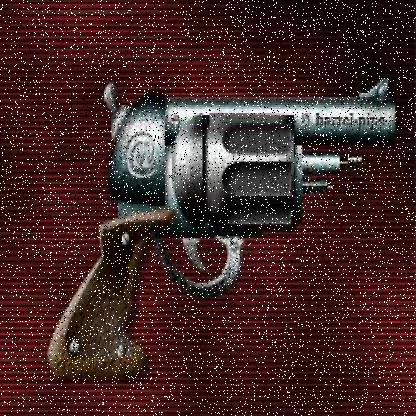pistol: (36, 81, 399, 386)
